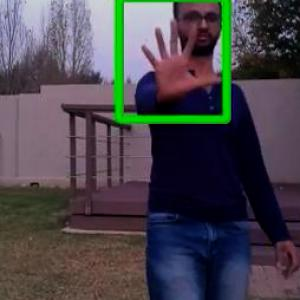follow_hand: (133, 13, 228, 104)
